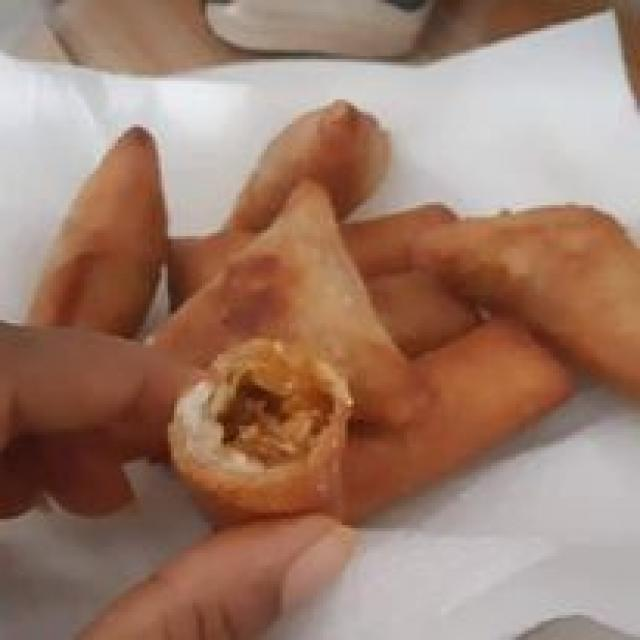Samosa: (152, 90, 426, 404), (22, 112, 177, 338)
Spring Rolls: (165, 190, 556, 525)
